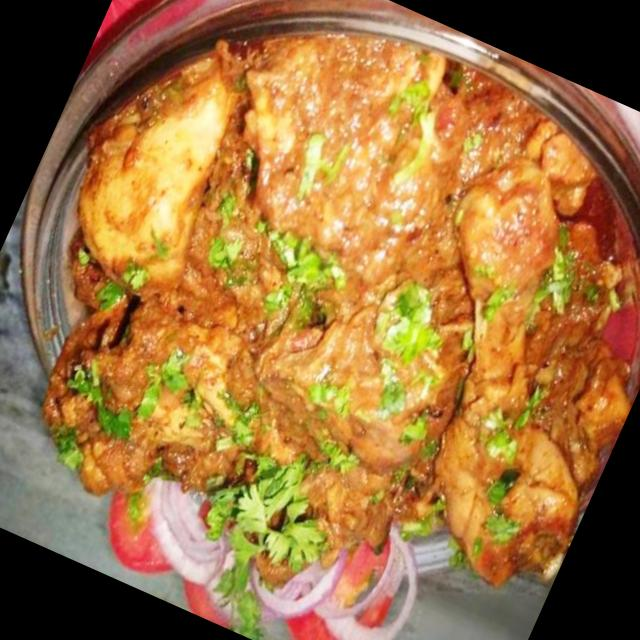chicken: (7, 0, 640, 640)
